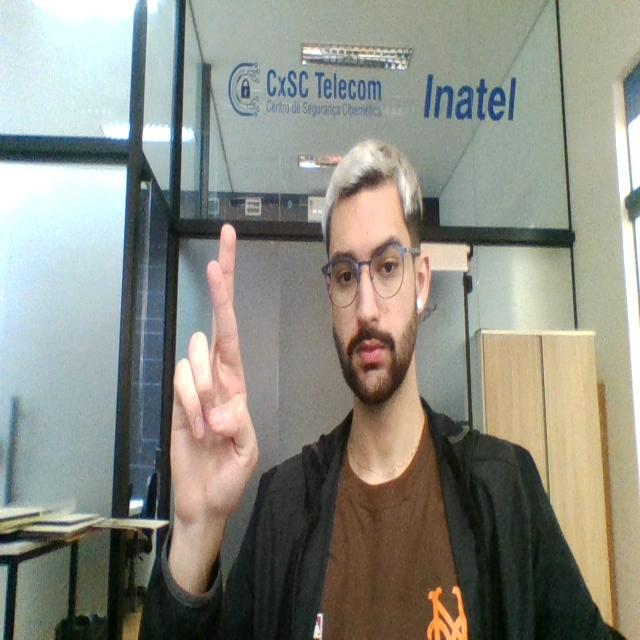R: (157, 215, 259, 539)
